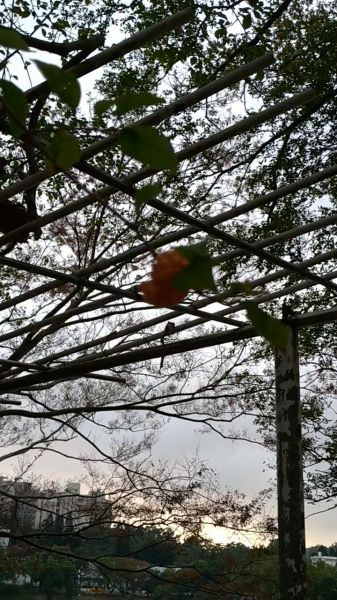eggs: (136, 243, 197, 316)
